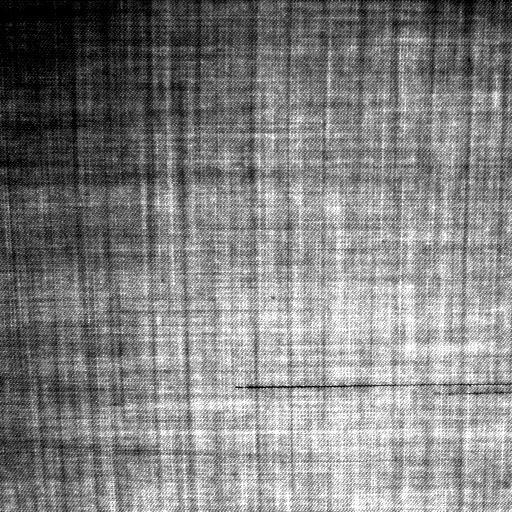fabric_thick_weft: (228, 378, 512, 388), (402, 389, 512, 399)
